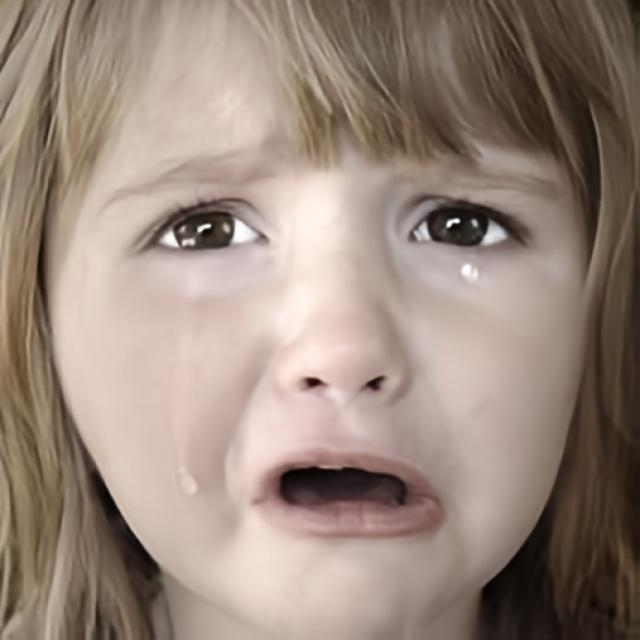sad: (45, 0, 591, 640)
